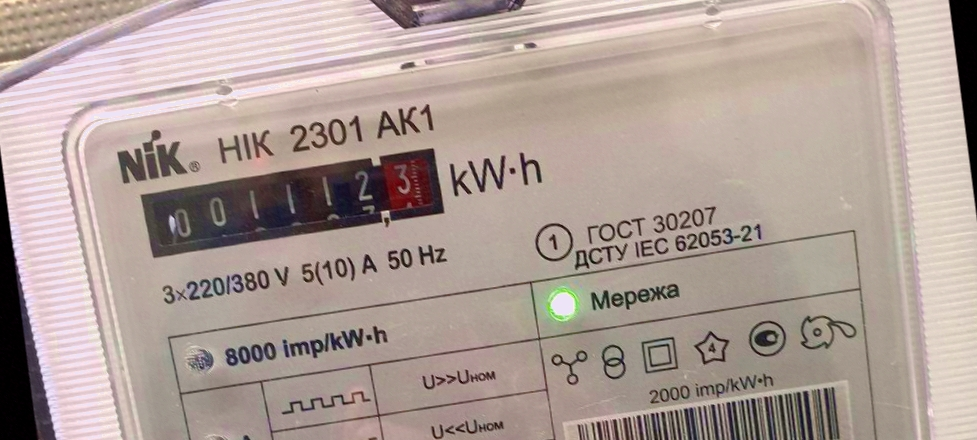0: (204, 190, 231, 231), (170, 202, 196, 239)
1: (243, 183, 265, 223), (280, 177, 299, 217), (318, 170, 336, 209)
2: (350, 165, 377, 204)
3: (391, 160, 413, 197)
screen: (132, 142, 453, 262)
